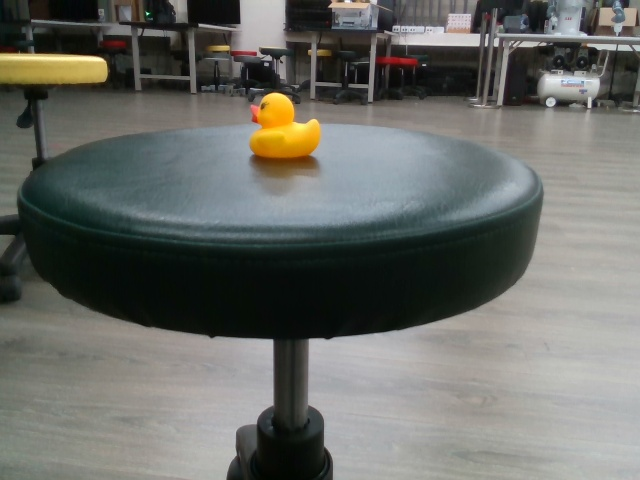duck: (242, 91, 325, 164)
